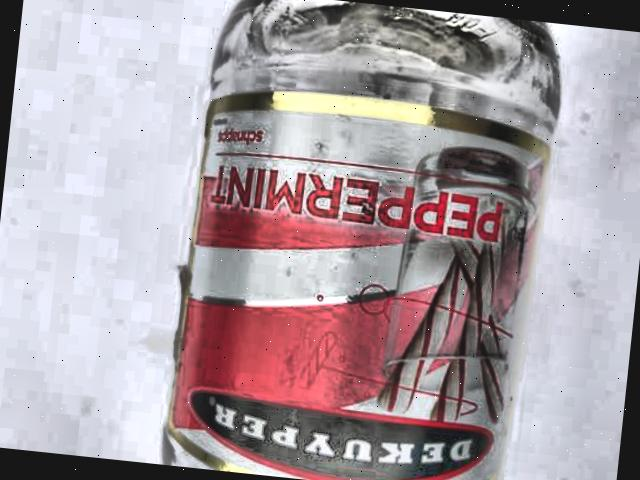Bottles: (105, 0, 575, 480)
